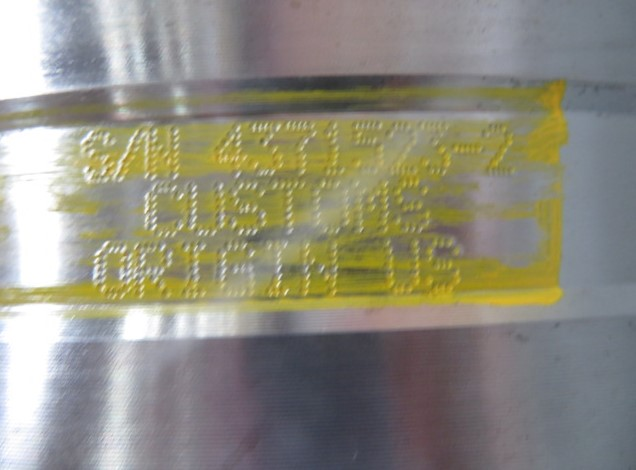character: (141, 181, 189, 239), (88, 237, 134, 297), (213, 237, 257, 299), (300, 238, 342, 300), (421, 233, 465, 291), (266, 178, 312, 233), (227, 177, 270, 235), (132, 240, 174, 299), (381, 238, 424, 295), (479, 123, 521, 181), (309, 177, 350, 236), (389, 175, 431, 232), (188, 177, 227, 237), (351, 178, 392, 233), (77, 127, 116, 183), (212, 118, 249, 176), (349, 117, 387, 173), (261, 237, 293, 299), (251, 119, 285, 176), (284, 119, 316, 177), (147, 125, 182, 177), (387, 119, 420, 174), (420, 119, 453, 174), (178, 239, 209, 297), (114, 127, 146, 180), (317, 118, 346, 175)
